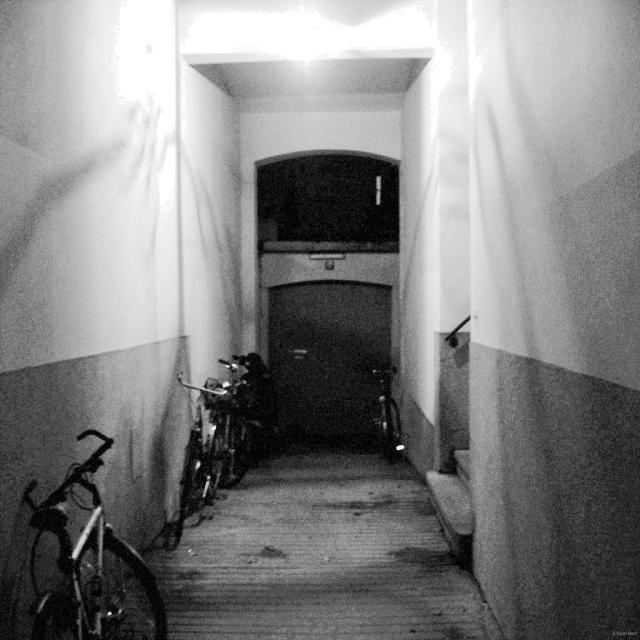Bicycle: (23, 433, 211, 639), (170, 368, 236, 510)
